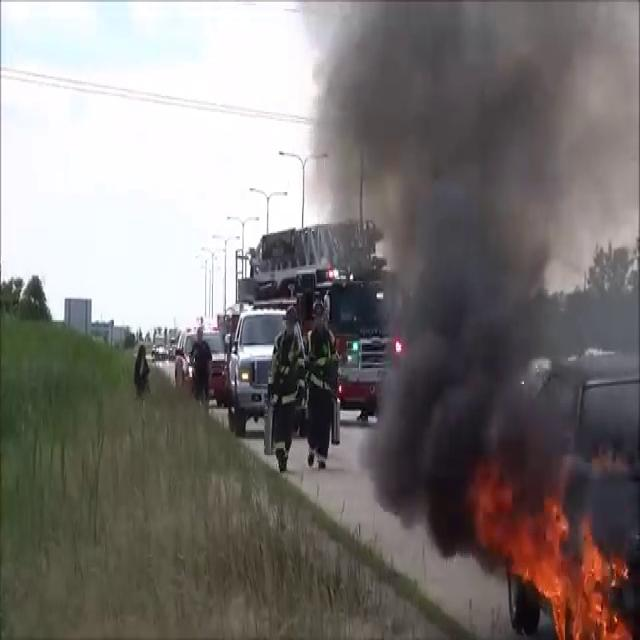Fire: (513, 492, 638, 638)
Smoke: (325, 0, 637, 530)
